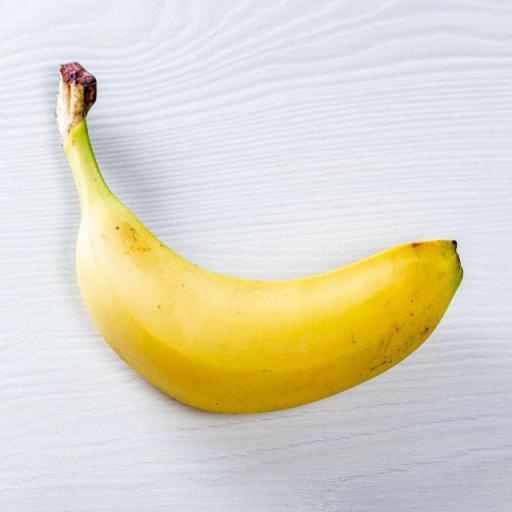fruit: (57, 64, 460, 412)
